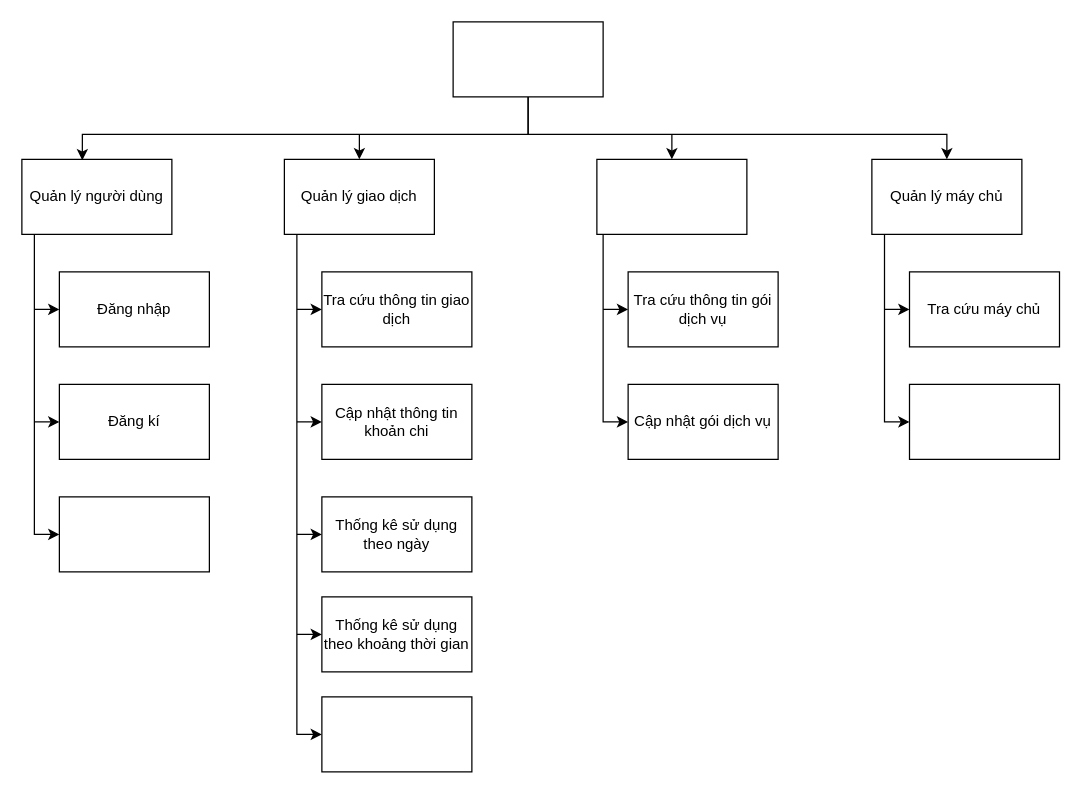
Image size: 1083x794. Some labels were removed from this diagram. Here are the shapes that lost their labels. From the top down, the centre of each, then its label:
At (x=527, y=59): "Phần mềm quản lý cho thuê máy chủ".
At (x=671, y=196): "Quản lý gói dịch vụ".
At (x=984, y=421): "Cập nhật thông tin máy chủ".
At (x=133, y=534): "Cập nhật người dùng".
At (x=396, y=734): "Thống kê sử dụng theo gói dịch vụ".
